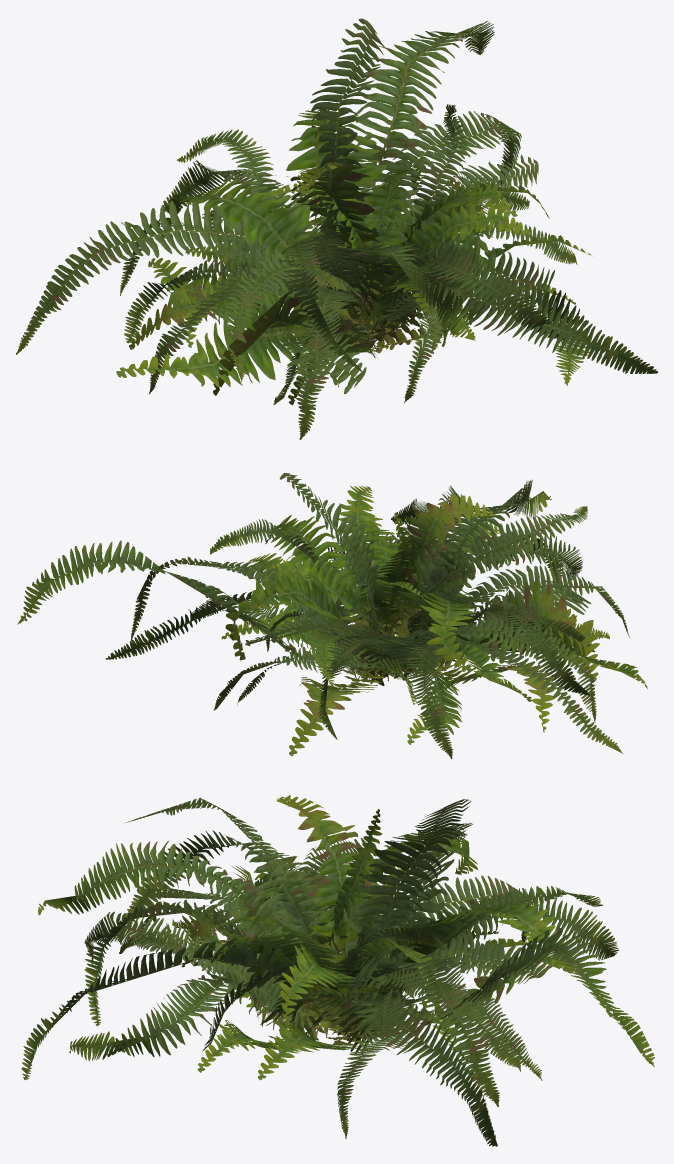
The model's file is fougere.glb.
The picture shows the model from 3 angles, top to bottom: view 1: azimuth 30°, elevation 25°; view 2: azimuth 150°, elevation 25°; view 3: azimuth 270°, elevation 25°; orthographic projection. The views are drawn at different scales.
Visible parts, largest first — view 1: fern_02_b, fern_02_c, fern_02_d, fern_02_a; view 2: fern_02_b, fern_02_c, fern_02_a, fern_02_d; view 3: fern_02_b, fern_02_c, fern_02_a, fern_02_d.
Boxes of the visible parts, box(x1,y1,x2,y2) form: fern_02_b: box(16, 18, 657, 439); fern_02_c: box(116, 121, 590, 405); fern_02_d: box(148, 179, 575, 404); fern_02_a: box(182, 104, 554, 353); fern_02_b: box(17, 473, 630, 756); fern_02_c: box(105, 485, 647, 758); fern_02_a: box(210, 519, 532, 710); fern_02_d: box(264, 521, 609, 744); fern_02_b: box(21, 795, 654, 1138); fern_02_c: box(69, 797, 603, 1146); fern_02_a: box(119, 867, 552, 1080); fern_02_d: box(131, 863, 541, 1072).
Size of the model in its own units: 0.989 by 0.4277 by 0.8938.
1 material, 1 textured.
